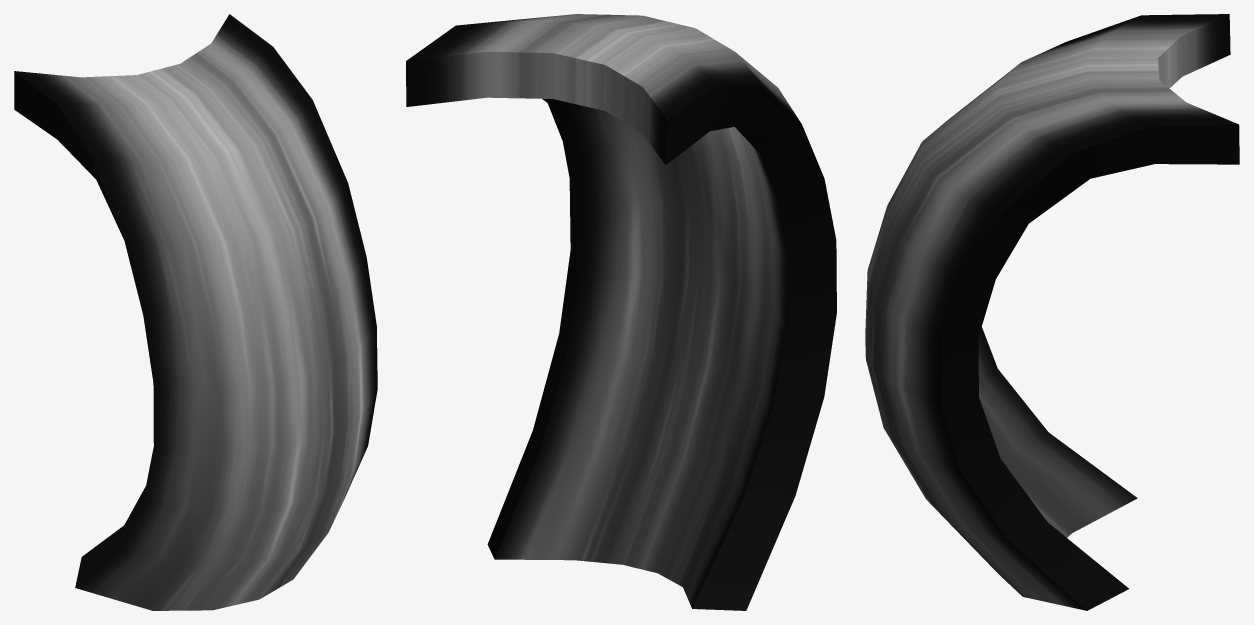
The model's file is fengqiang.FBX.
3 renders of one model, left to right at view 1: azimuth 30°, elevation 25°; view 2: azimuth 150°, elevation 25°; view 3: azimuth 270°, elevation 25°, orthographic. The views are drawn at different scales.
Parts seen in each view (by area): view 1: Plane001; view 2: Plane001; view 3: Plane001.
Part boxes in pixels (box(x1,y1,x2,y2)): Plane001: box(14, 14, 377, 610); Plane001: box(406, 14, 836, 610); Plane001: box(865, 14, 1239, 610).
Size of the model in its own units: 43.47 by 87.6 by 60.28.
